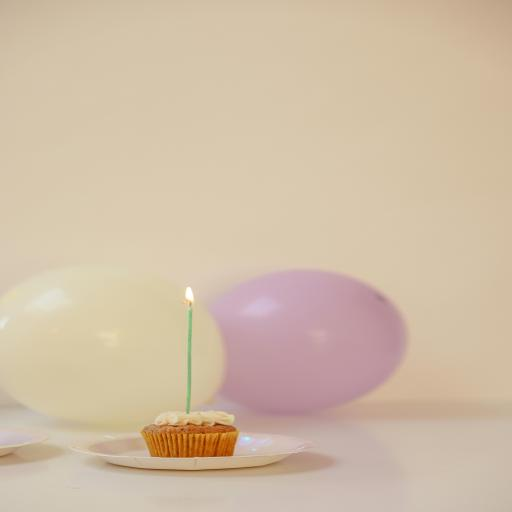candlelight: (173, 283, 210, 409)
